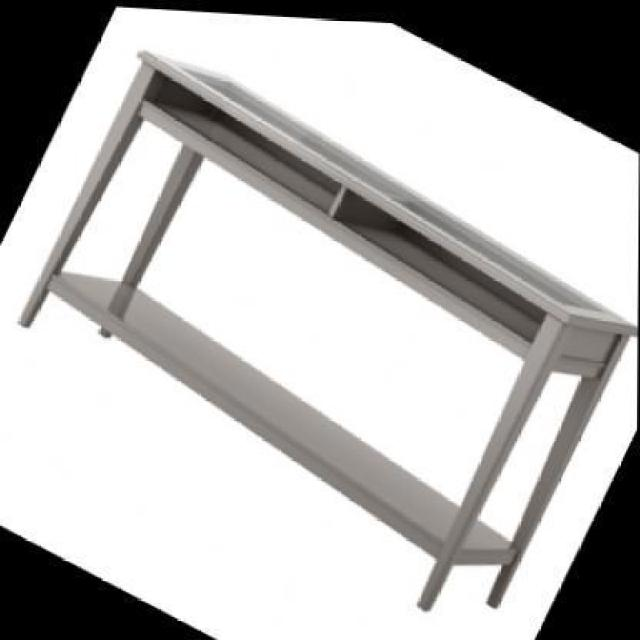tables: (0, 4, 638, 615)
